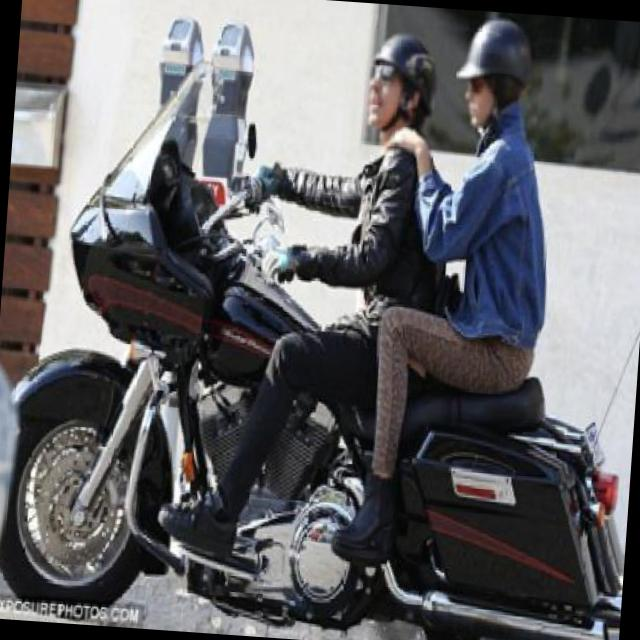With Helmet: (359, 28, 440, 158), (452, 19, 535, 132)
